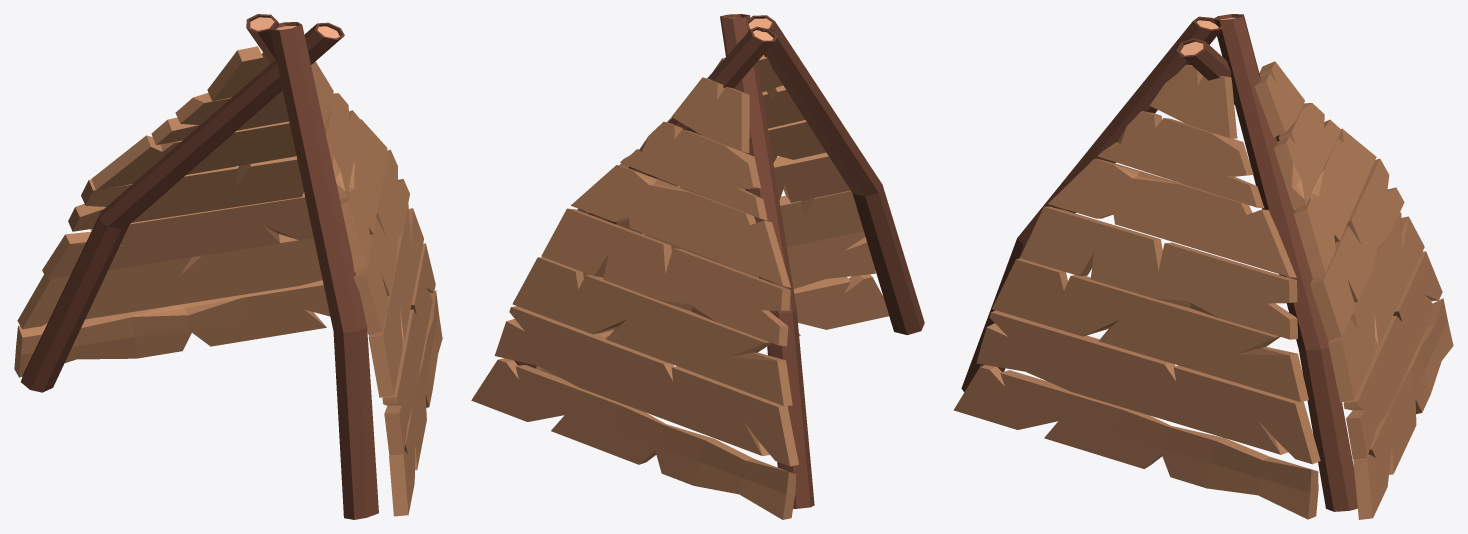
File: wooden_hut.fbx
3 renders of one model, left to right at view 1: azimuth 30°, elevation 25°; view 2: azimuth 150°, elevation 25°; view 3: azimuth 270°, elevation 25°, orthographic. The views are drawn at different scales.
Visible parts, largest first — view 1: wooden_hut; view 2: wooden_hut; view 3: wooden_hut.
Part boxes in pixels (x1,y1,x2,y2): wooden_hut: [14, 14, 442, 519]; wooden_hut: [471, 14, 924, 519]; wooden_hut: [954, 14, 1453, 519].
Size of the model in its own units: 4.23 by 4.29 by 4.85.
